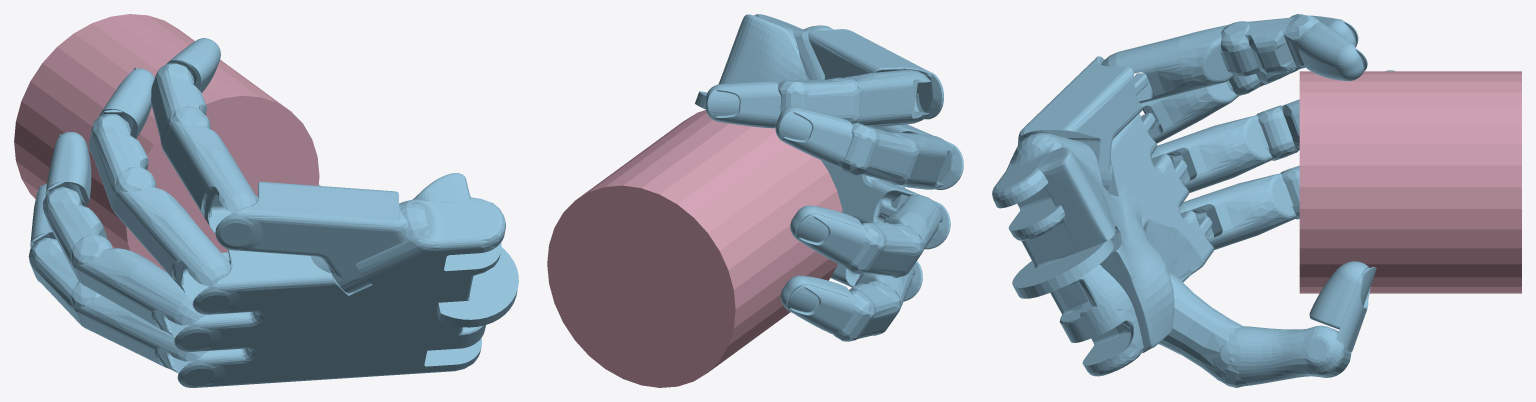
3 renders of one model, left to right at view 1: azimuth 30°, elevation 25°; view 2: azimuth 150°, elevation 25°; view 3: azimuth 270°, elevation 25°, orthographic. The views are drawn at different scales.
Visible parts, largest first — view 1: world; view 2: world; view 3: world.
Boxes of the visible parts, left/top/right/bottom form: world: left=14, top=14, right=518, bottom=387; world: left=547, top=14, right=963, bottom=387; world: left=992, top=14, right=1521, bottom=387.
Bounding box in the file's own units: 0.1375 × 0.1141 × 0.1906.
